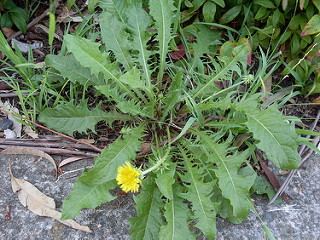dandelion yellow: (115, 158, 143, 195)
